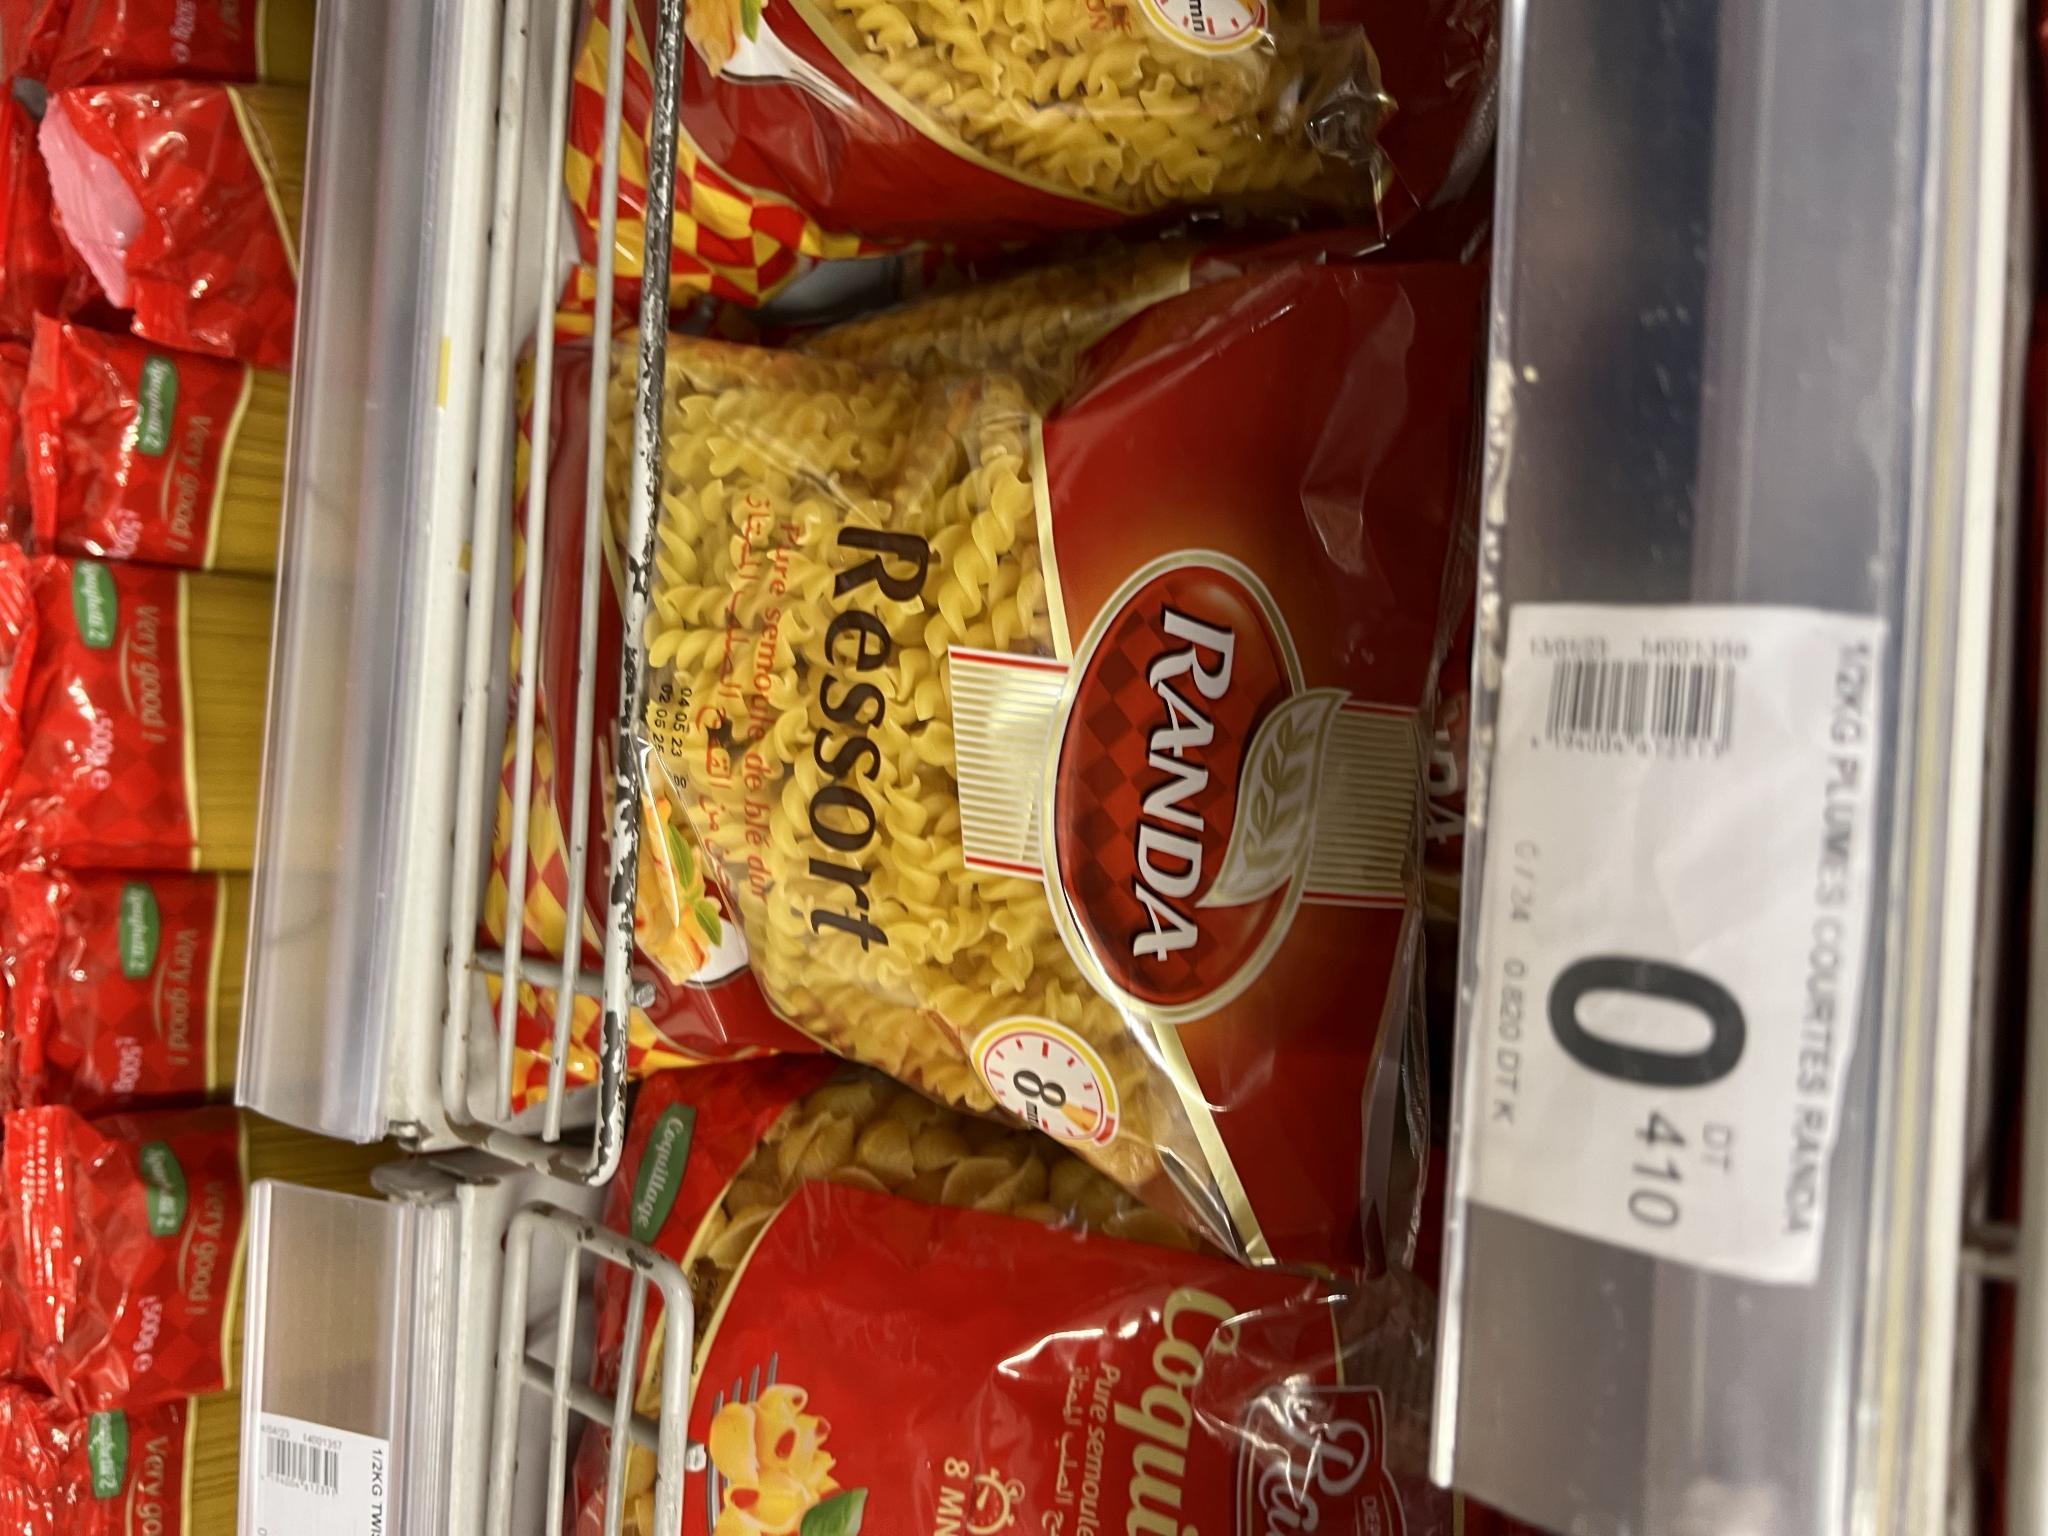Ressort: (506, 282, 1408, 1276)
